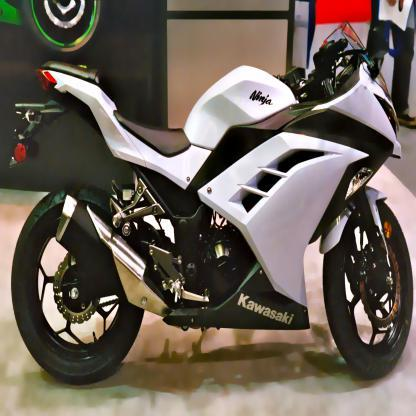Motorcycle: (7, 9, 414, 382)
